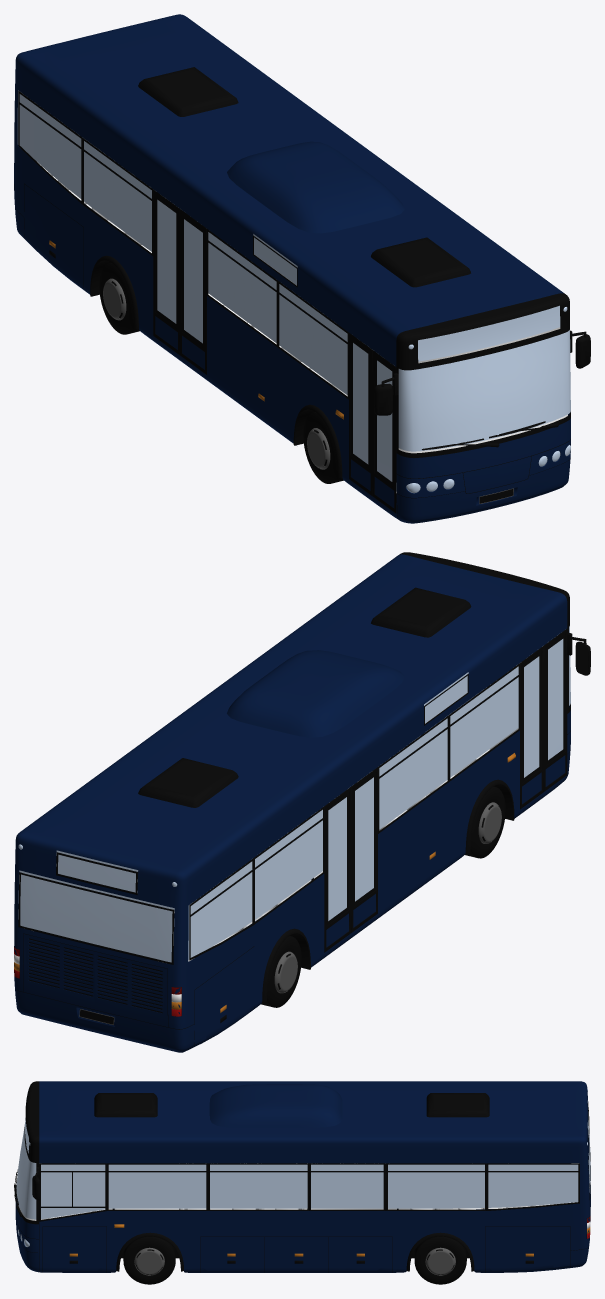
File: BUSS.FBX
The picture shows the model from 3 angles, top to bottom: view 1: azimuth 30°, elevation 25°; view 2: azimuth 150°, elevation 25°; view 3: azimuth 270°, elevation 25°; orthographic projection. The views are drawn at different scales.
Visible parts, largest first — view 1: body, glass, plastic, glassblk, body_blk, tyre, Object003, interior, black; view 2: body, glass, plastic, body_blk, glassblk, black, Object003, tyre; view 3: body, glass, plastic, body_blk, Object001, Object002, glassblk, interior, black.
Boxes of the visible parts, bbox=[...] form: body: bbox=[14, 14, 570, 523]; glass: bbox=[17, 90, 570, 491]; plastic: bbox=[18, 91, 590, 513]; glassblk: bbox=[155, 194, 570, 486]; body_blk: bbox=[138, 67, 470, 287]; tyre: bbox=[99, 263, 139, 334]; Object003: bbox=[303, 412, 343, 483]; interior: bbox=[37, 162, 567, 492]; black: bbox=[14, 163, 570, 520]; body: bbox=[14, 554, 570, 1052]; glass: bbox=[18, 626, 570, 962]; plastic: bbox=[18, 629, 590, 1022]; body_blk: bbox=[138, 587, 471, 807]; glassblk: bbox=[326, 552, 570, 925]; black: bbox=[14, 730, 570, 1045]; Object003: bbox=[465, 786, 505, 858]; tyre: bbox=[261, 936, 301, 1007]; body: bbox=[15, 1081, 590, 1272]; glass: bbox=[16, 1092, 590, 1219]; plastic: bbox=[14, 1102, 590, 1271]; body_blk: bbox=[94, 1093, 489, 1117]; Object001: bbox=[123, 1236, 175, 1284]; Object002: bbox=[414, 1236, 466, 1284]; glassblk: bbox=[16, 1081, 39, 1224]; interior: bbox=[18, 1202, 574, 1220]; black: bbox=[17, 1207, 590, 1274].
Bounding box in the file's own units: 80.14 × 79.76 × 260.
